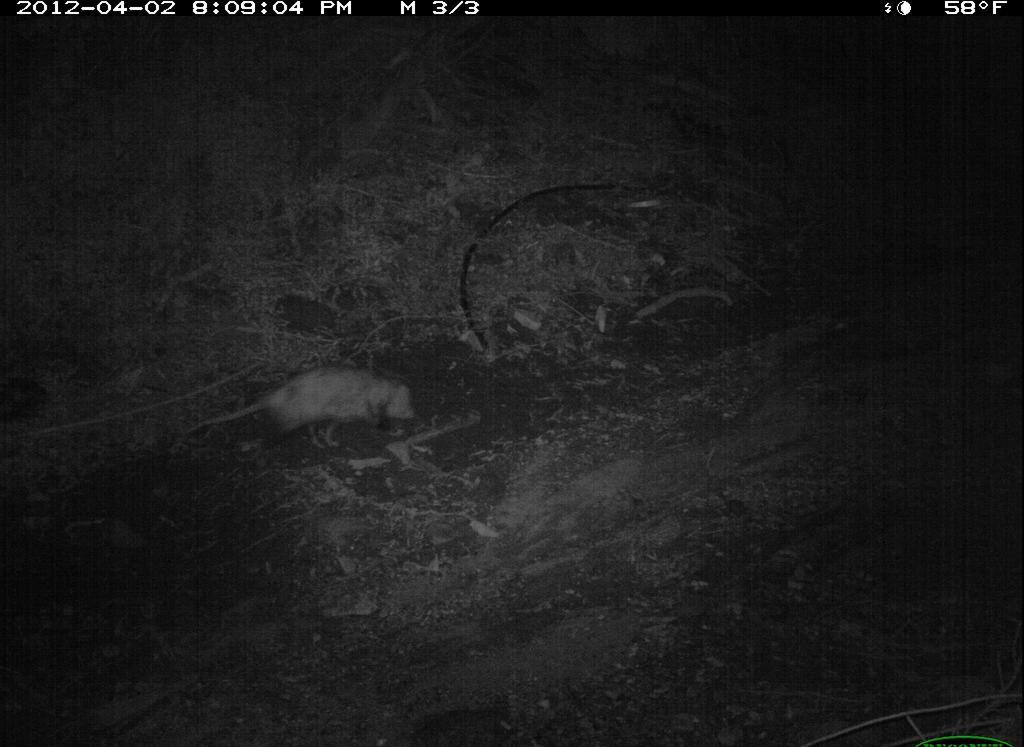opossum: (173, 356, 428, 460)
